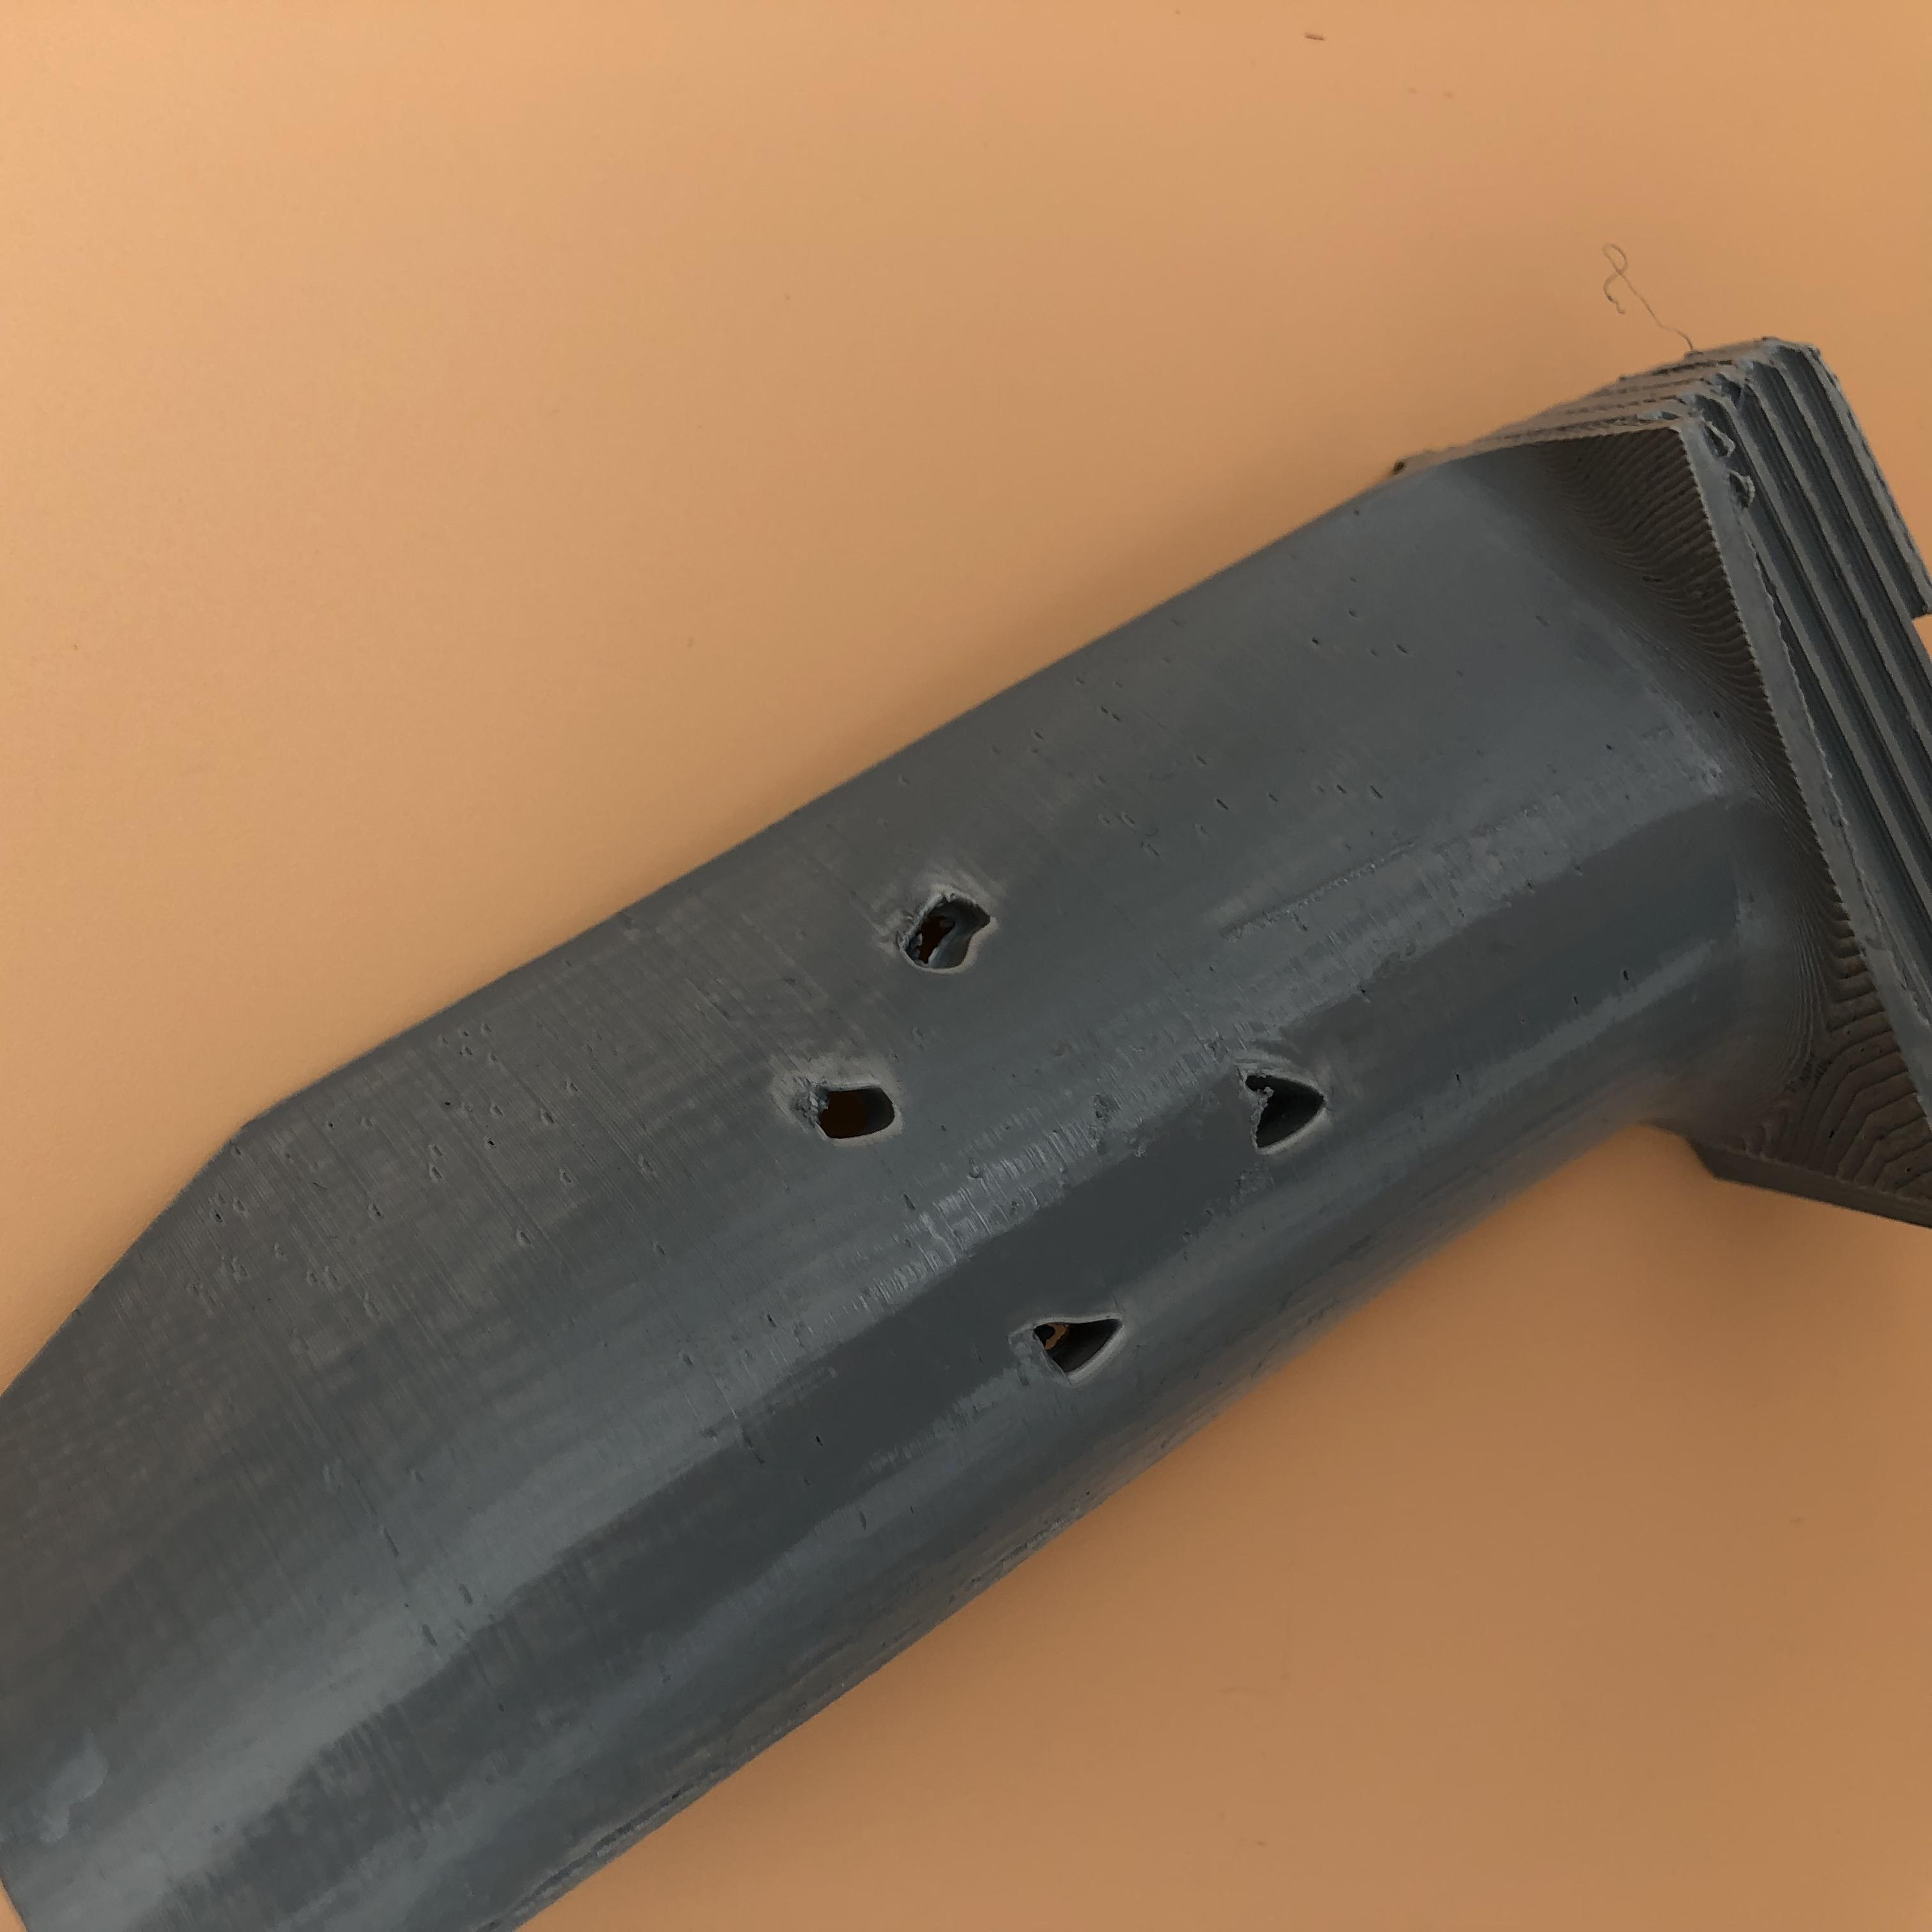breakdown: (794, 862, 1008, 1148), (1242, 1049, 1345, 1168), (1005, 1307, 1131, 1389)
